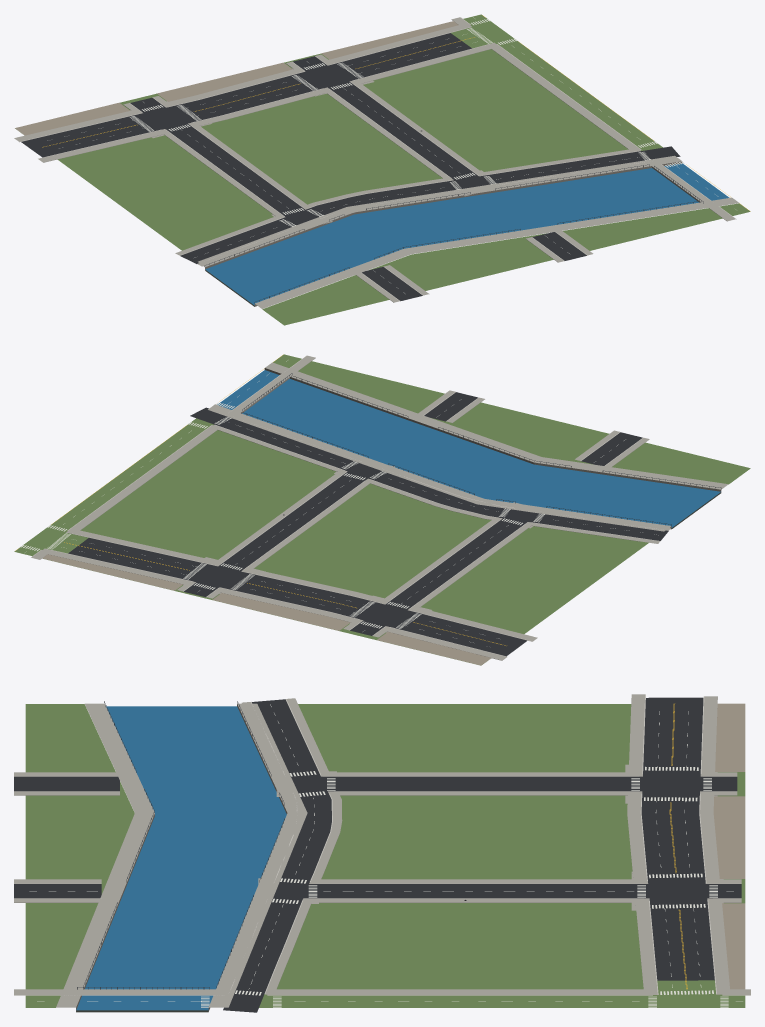
File: Ground_3_2.fbx
3 renders of one model, top to bottom at view 1: azimuth 30°, elevation 25°; view 2: azimuth 150°, elevation 25°; view 3: azimuth 270°, elevation 25°, orthographic. The views are drawn at different scales.
Visible parts, largest first — view 1: Ground_3_2; view 2: Ground_3_2; view 3: Ground_3_2.
Boxes of the visible parts, bbox=[...] form: Ground_3_2: bbox=[14, 14, 750, 325]; Ground_3_2: bbox=[14, 354, 750, 665]; Ground_3_2: bbox=[14, 694, 750, 1012].
Size of the model in its own units: 262 by 2.7 by 256.
